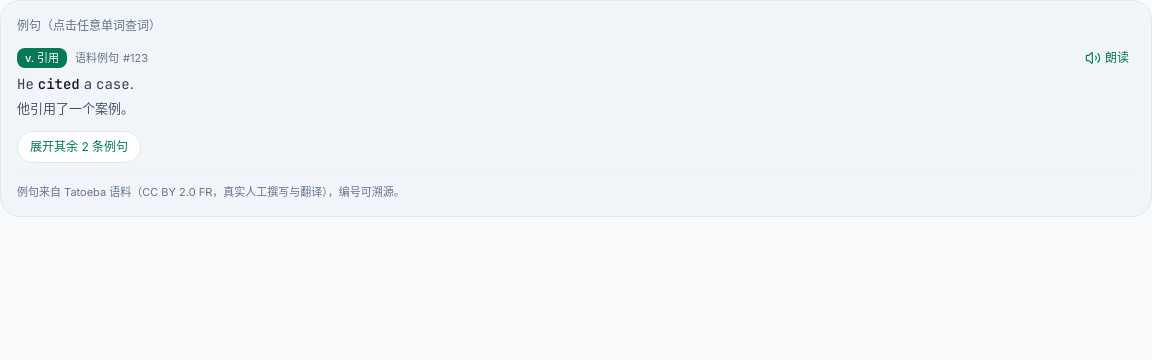
Test: P0-4 例句区降噪 › 第二条起默认折叠，点击展开其余例句
Expected: the text "authors" is not shown
What coordinates should you click on to do the following:
click the button "展开其余 2 条例句"
I would click on:
 (79, 146)
Its box is [17,130,141,162].
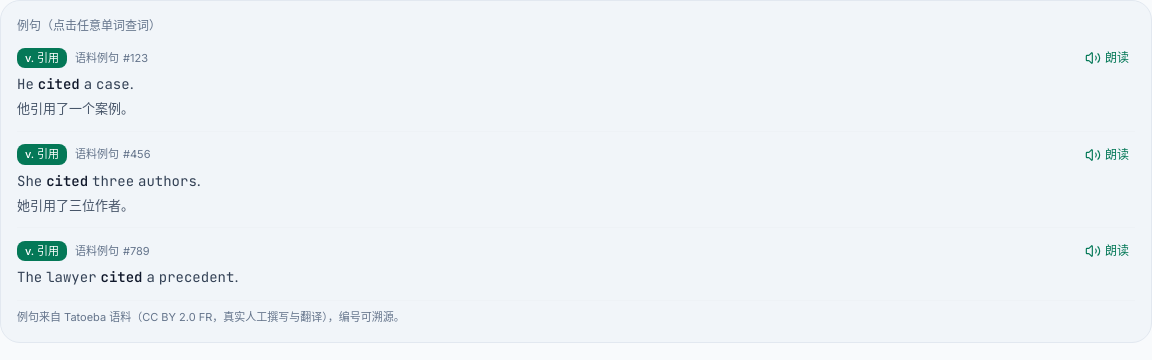
Expected: the button "authors" is shown, [138,170,197,192]
Expected: the button "precedent" is shown, [159,267,234,288]
